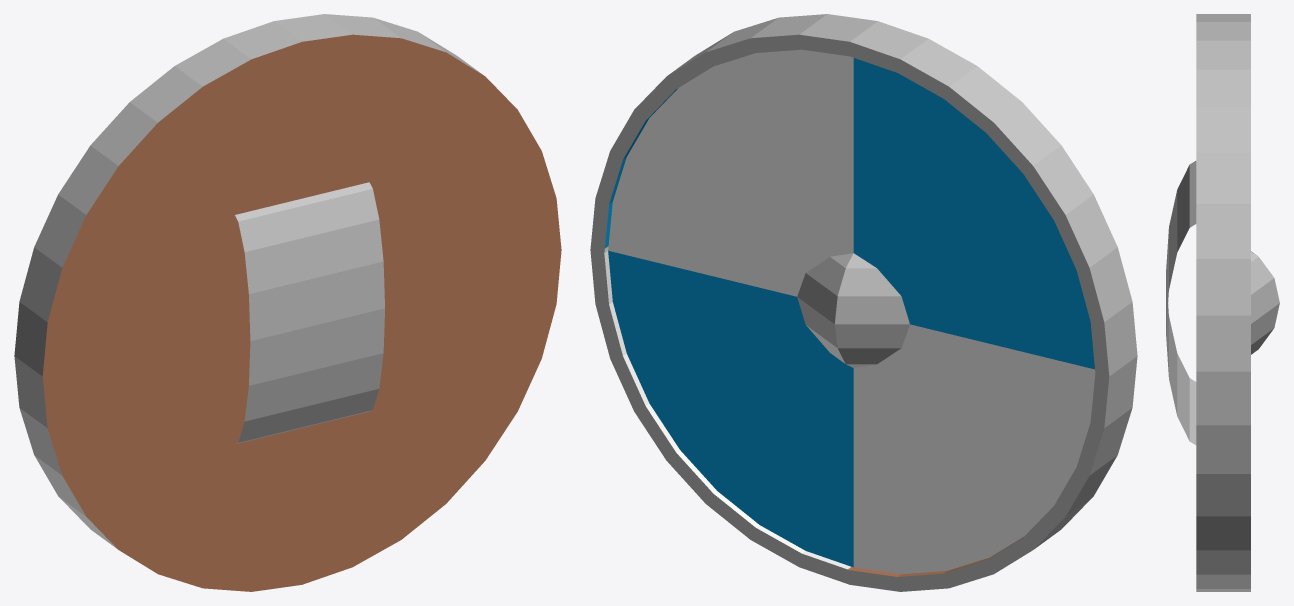
File: SdoemntStrikesAgainWithShield.fbx
3 renders of one model, left to right at view 1: azimuth 30°, elevation 25°; view 2: azimuth 150°, elevation 25°; view 3: azimuth 270°, elevation 25°, orthographic. The views are drawn at different scales.
Parts seen in each view (by area): view 1: Shield; view 2: Shield; view 3: Shield.
Part boxes in pixels (box(x1,y1,x2,y2)): Shield: box(14, 14, 561, 591); Shield: box(590, 14, 1137, 591); Shield: box(1166, 14, 1279, 591).
Bounding box in the file's own units: 600 × 600 × 118.
